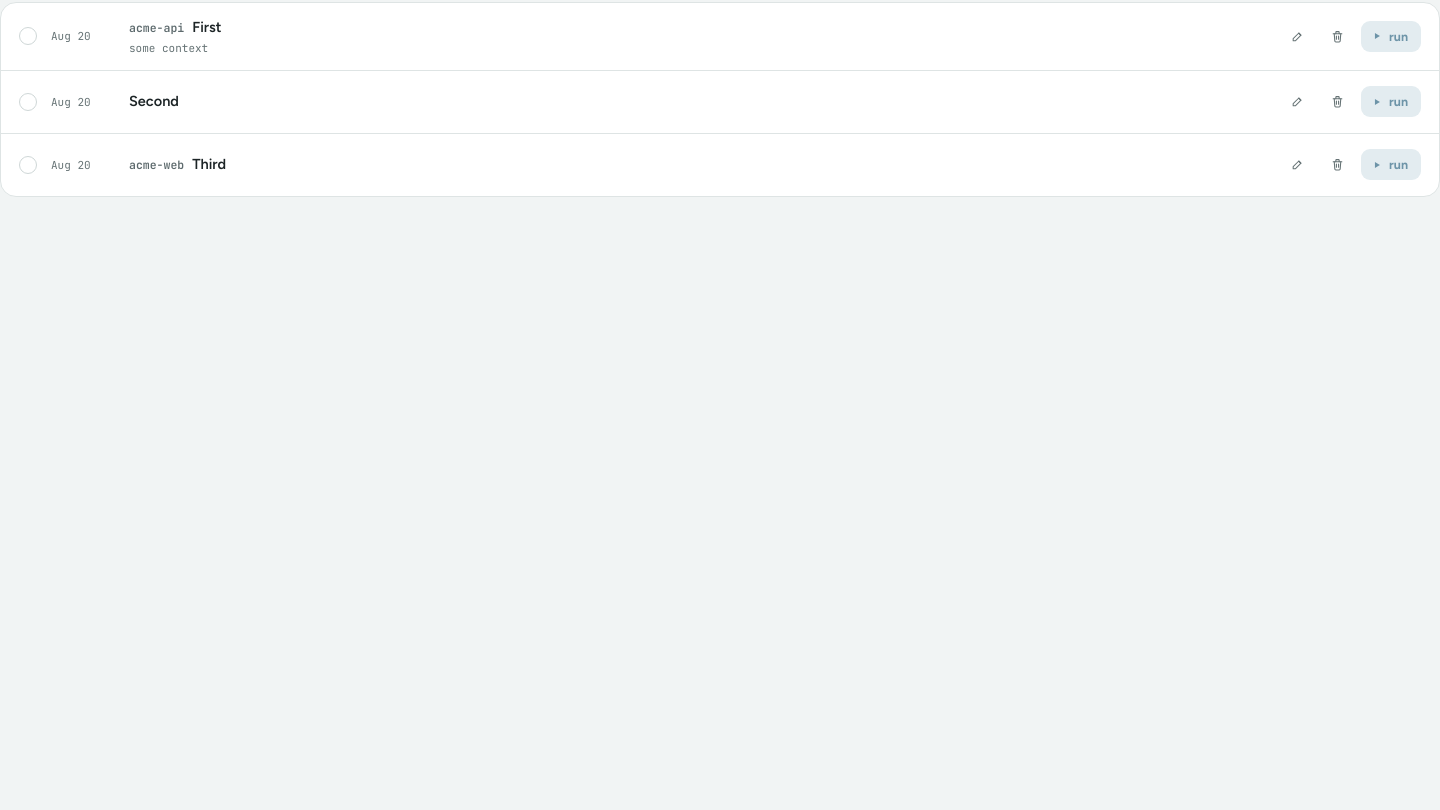
Test: BacklogView delete › confirming removes a batch highest index first and posts each item as its own guard
Click the 1st checkbox with test id "backlog-select-checkbox": (28, 36) [19, 27, 37, 45]
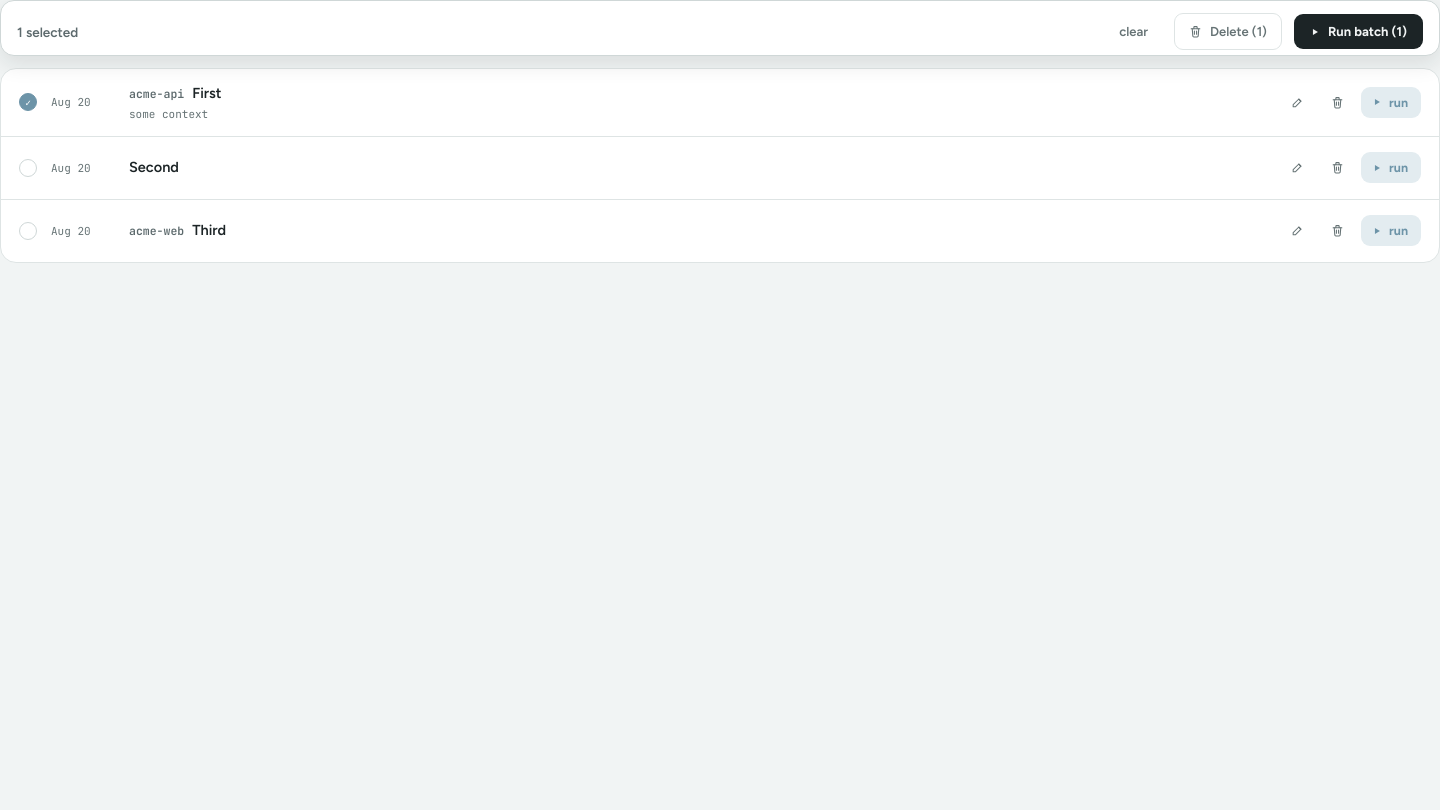
Click the 3rd checkbox with test id "backlog-select-checkbox": (28, 231) [19, 222, 37, 240]
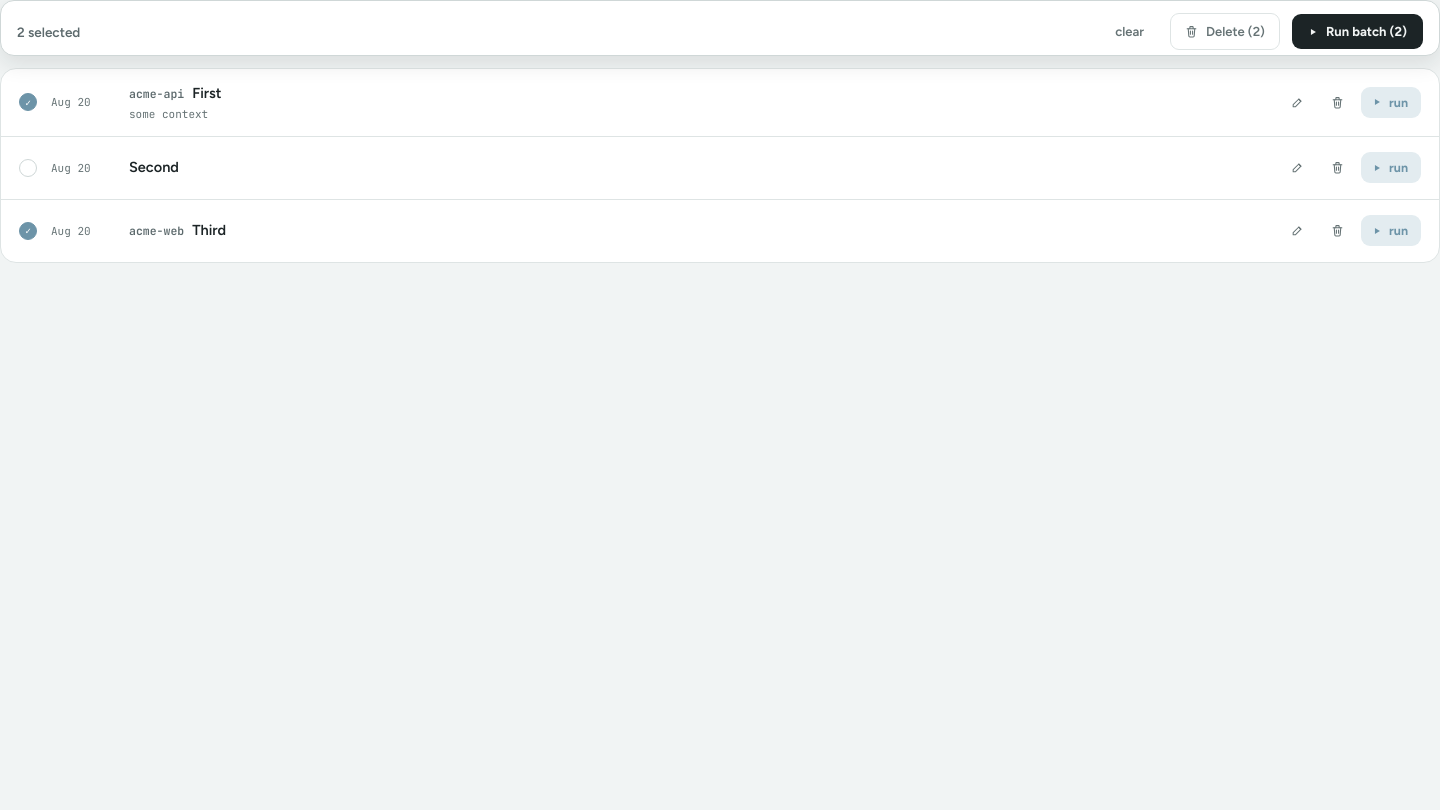
Click the button with test id "backlog-delete-selected-btn": (1225, 32) [1170, 13, 1280, 50]
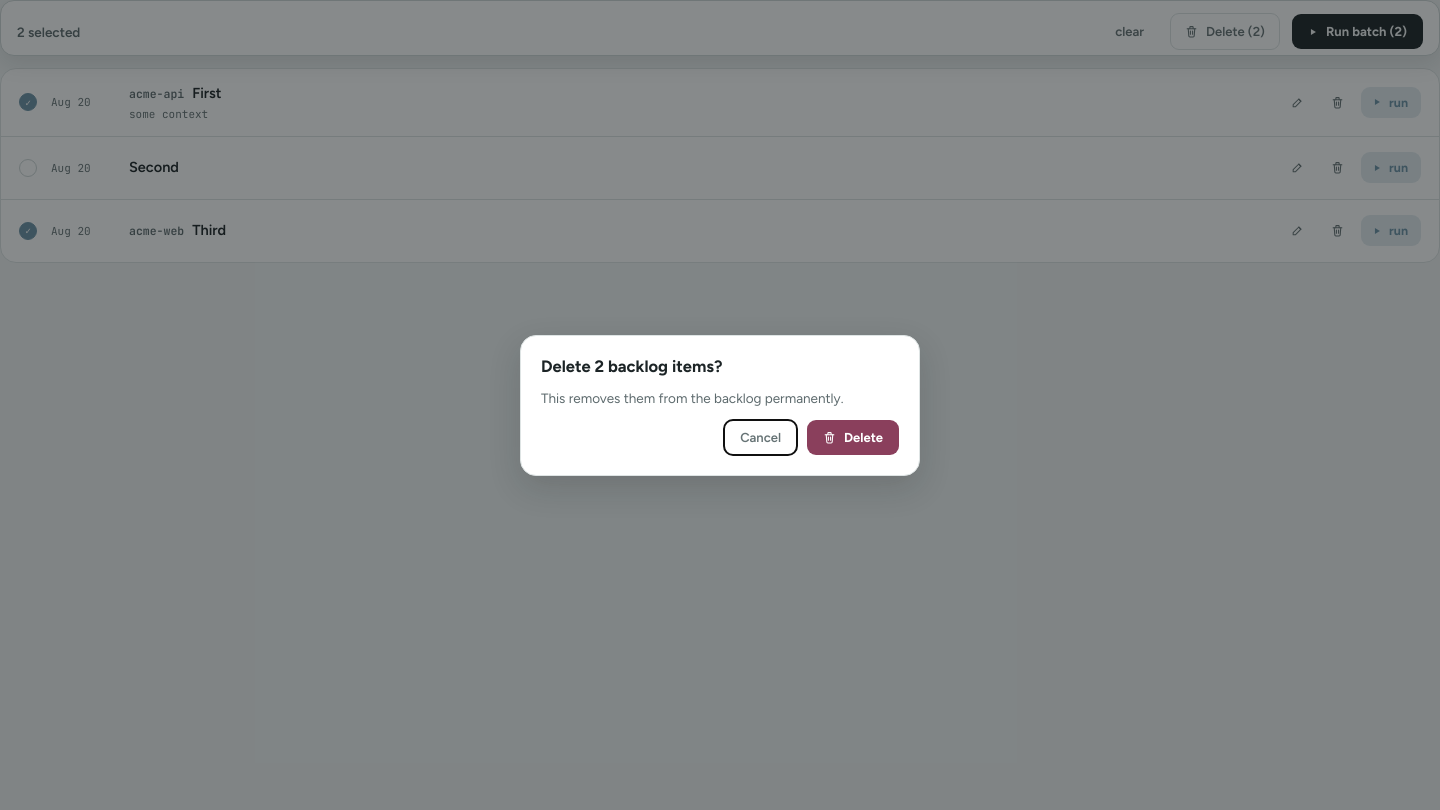
Result: the text with test id "backlog-delete-headline" reads "Delete 2 backlog items?" at [541, 356, 722, 376]
Click the button with test id "backlog-delete-confirm-btn": (853, 437) [807, 420, 899, 454]
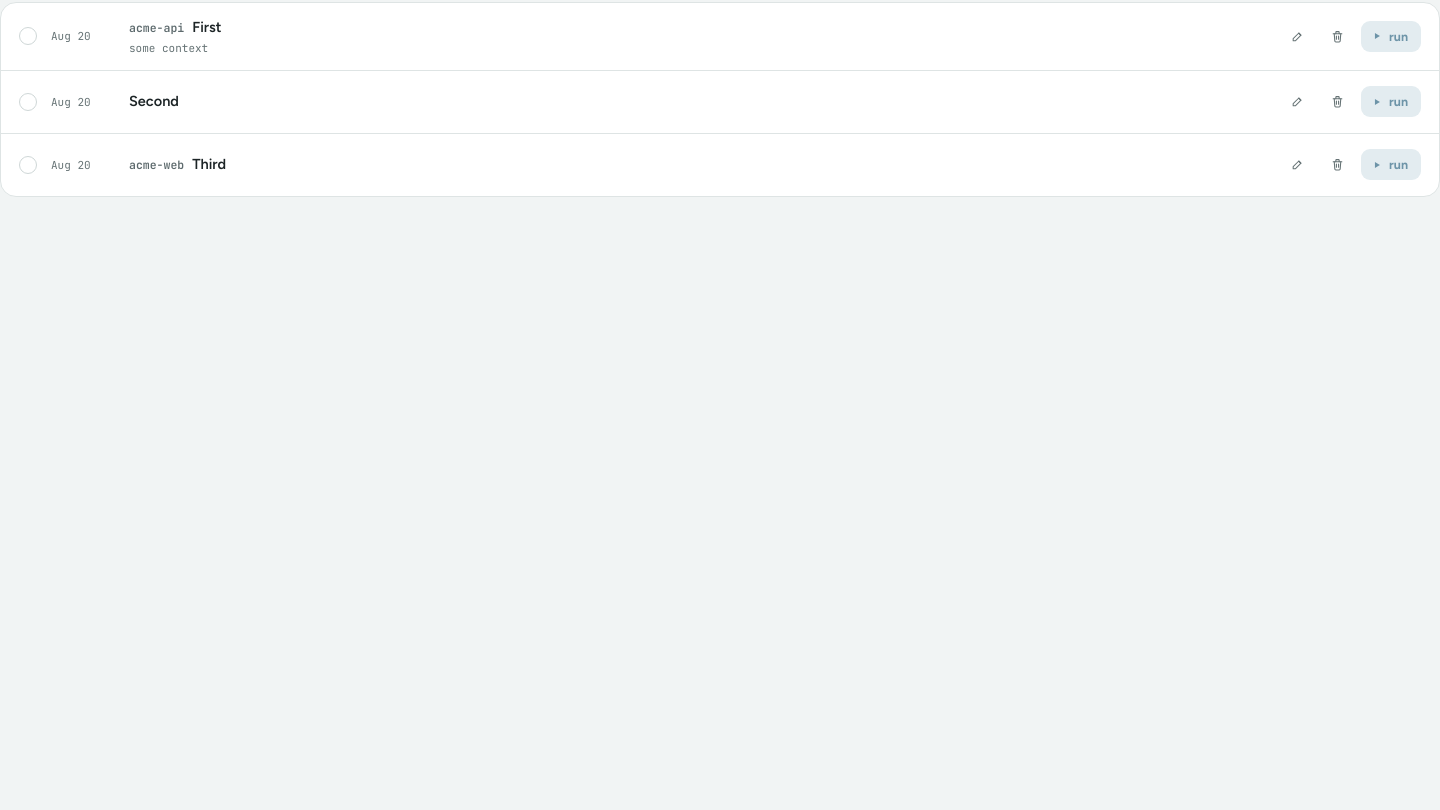
Expected: the text "Third" is shown, [192, 155, 226, 173]
Result: the dialog with test id "backlog-delete-modal" is gone
